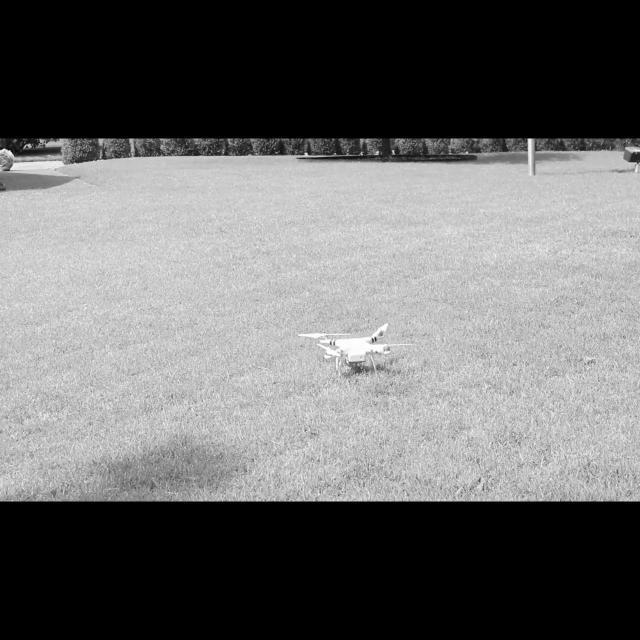Drons: (296, 322, 414, 377)
